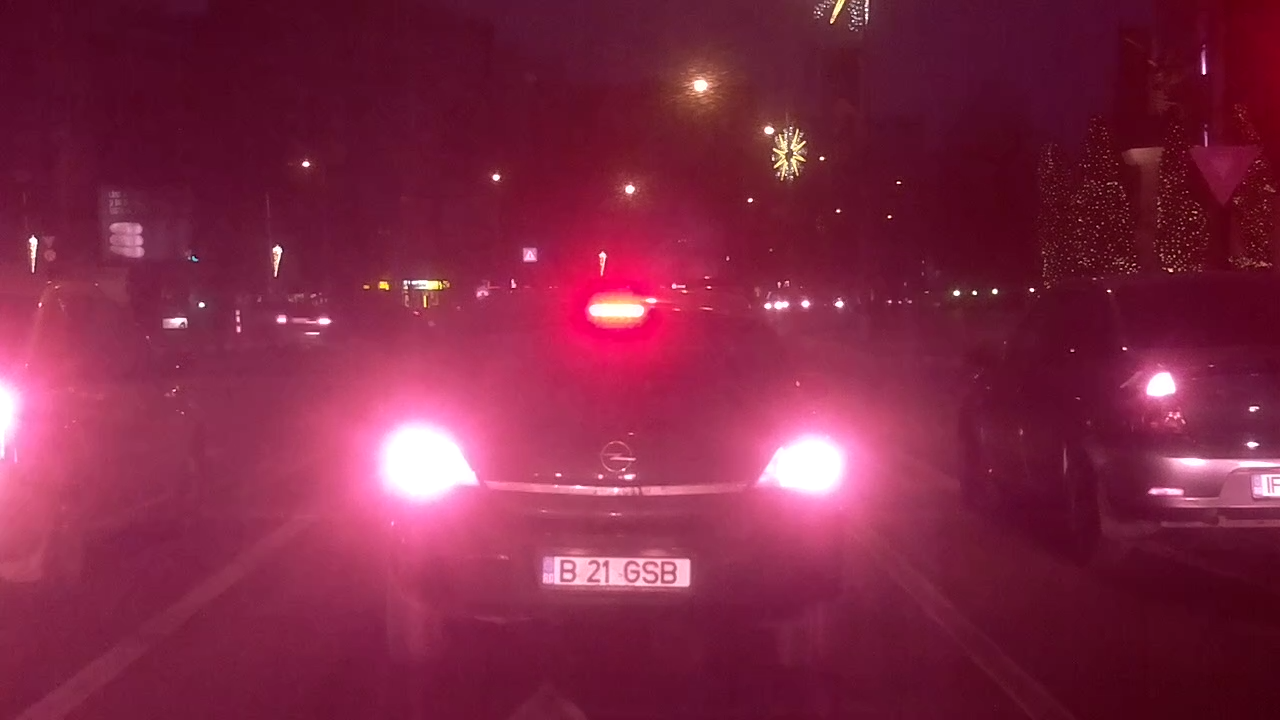license-plate: (538, 550, 695, 592)
